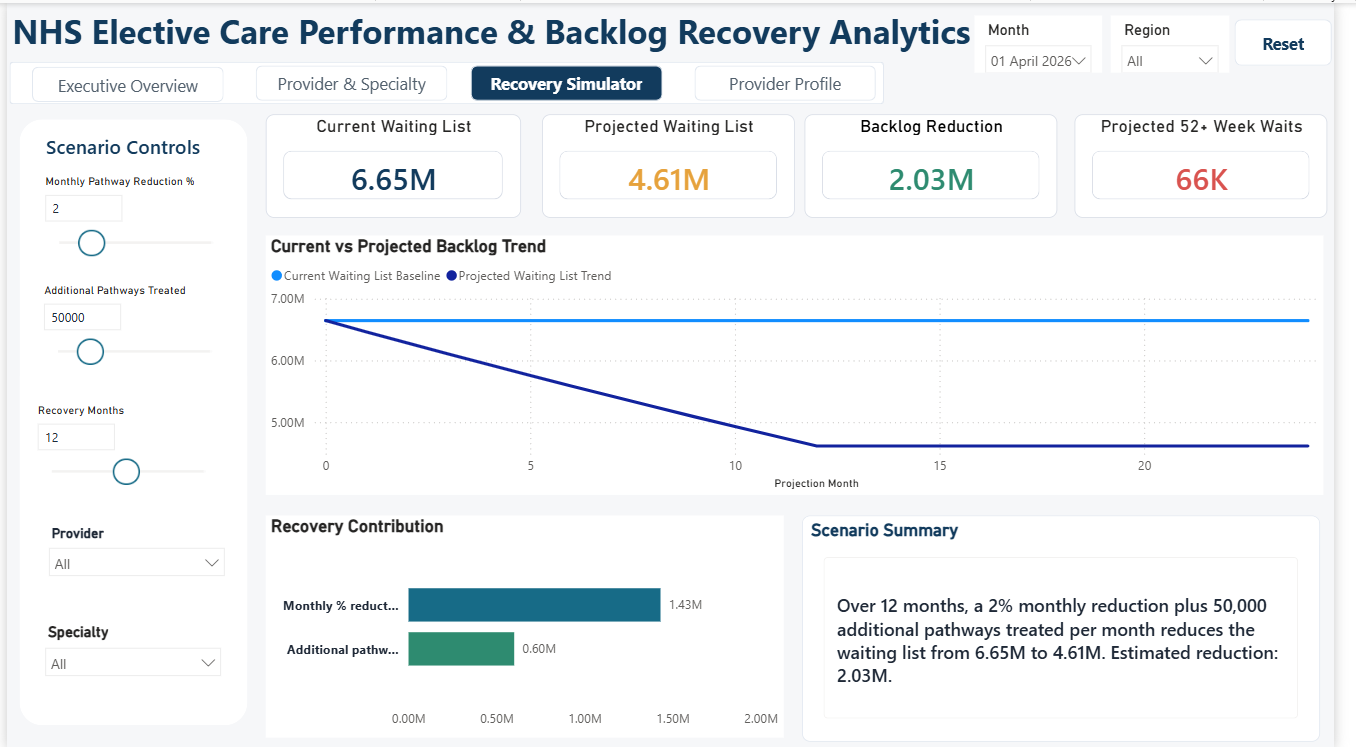

The dashboard page shown, as its layout file describes it:
{"tool":"powerbi","page":{"name":"Recovery Simulator","canvas":[1280,720],"ordinal":2},"visuals":[{"type":"shape","box":[12,112,220,585],"z":0},{"type":"shape","box":[3,57,844,41],"z":1000},{"type":"textbox","box":[0,0,941,53],"z":2000},{"type":"actionButton","box":[24,62,185,34],"z":3000},{"type":"actionButton","box":[240,60,185,34],"z":4000},{"type":"actionButton","box":[448,60,185,34],"z":5000},{"type":"actionButton","box":[663,60,175,34],"z":6000},{"type":"slicer","fields":{"Values":["Dim_Date.Reporting_Month"]},"box":[934,12,123,55],"z":7000},{"type":"slicer","fields":{"Values":["Dim_Provider.Region_Code"]},"box":[1065,12,114,55],"z":8000},{"type":"actionButton","box":[1185,16,94,45],"z":9000},{"type":"cardVisual","title":"Current Waiting List","fields":{"Data":["_Measures.Total Waiting List"]},"box":[250,107,246,100],"z":10000},{"type":"cardVisual","title":"Projected Waiting List","fields":{"Data":["_Measures.Projected Waiting List"]},"box":[516,107,244,100],"z":11000},{"type":"cardVisual","title":"Backlog Reduction","fields":{"Data":["_Measures.Backlog Reduction"]},"box":[770,107,244,100],"z":12000},{"type":"cardVisual","title":"Projected 52+ Week Waits","fields":{"Data":["_Measures.Projected 52+ Week Waits"]},"box":[1030,107,244,100],"z":13000},{"type":"textbox","box":[32,121,173,37],"z":14000},{"type":"slicer","fields":{"Values":["Parameter 2.Parameter"]},"box":[24,160,196,90],"z":15000},{"type":"slicer","fields":{"Values":["Parameter 2.Parameter"]},"box":[23,265,196,90],"z":16000},{"type":"slicer","fields":{"Values":["Recovery Months.Recovery Months"]},"box":[17,381,196,93],"z":17000},{"type":"slicer","fields":{"Values":["Dim_Provider.Provider_Name"]},"box":[30,500,190,71],"z":18000},{"type":"slicer","fields":{"Values":["Dim_Specialty.Treatment_Function"]},"box":[27,593,190,71],"z":19000},{"type":"lineChart","title":"Current vs Projected Backlog Trend","fields":{"Category":["Projection Month Axis.Projection Month"],"Y":["_Measures.Current Waiting List Baseline","_Measures.Projected Waiting List Trend"]},"box":[250,225,1021,250],"z":20000},{"type":"clusteredBarChart","title":"Recovery Contribution","fields":{"Category":["Recovery Contribution.Contribution Type"],"Y":["_Measures.Recovery Contribution Value"]},"box":[250,495,500,214],"z":21000},{"type":"cardVisual","title":"Scenario Summary","fields":{"Data":["_Measures.Scenario Summary"]},"box":[767,495,500,218],"z":22000}]}

Visuals, with their boxes in screenshot pixels (x1, y1, x2, y2), scaled from the page's 1280x720 canvas onto the 1356x747 screenshot:
shape: locate(13, 116, 246, 723)
shape: locate(3, 59, 897, 102)
textbox: locate(0, 0, 997, 55)
actionButton: locate(25, 64, 221, 100)
actionButton: locate(254, 62, 450, 98)
actionButton: locate(475, 62, 671, 98)
actionButton: locate(702, 62, 888, 98)
slicer - Dim_Date.Reporting_Month: locate(989, 12, 1120, 70)
slicer - Dim_Provider.Region_Code: locate(1128, 12, 1249, 70)
actionButton: locate(1255, 17, 1355, 63)
"Current Waiting List" cardVisual: locate(265, 111, 525, 215)
"Projected Waiting List" cardVisual: locate(547, 111, 805, 215)
"Backlog Reduction" cardVisual: locate(816, 111, 1074, 215)
"Projected 52+ Week Waits" cardVisual: locate(1091, 111, 1350, 215)
textbox: locate(34, 126, 217, 164)
slicer - Parameter 2.Parameter: locate(25, 166, 233, 259)
slicer - Parameter 2.Parameter: locate(24, 275, 232, 368)
slicer - Recovery Months.Recovery Months: locate(18, 395, 226, 492)
slicer - Dim_Provider.Provider_Name: locate(32, 519, 233, 592)
slicer - Dim_Specialty.Treatment_Function: locate(29, 615, 230, 689)
"Current vs Projected Backlog Trend" lineChart: locate(265, 233, 1346, 493)
"Recovery Contribution" clusteredBarChart: locate(265, 514, 795, 736)
"Scenario Summary" cardVisual: locate(813, 514, 1342, 740)
